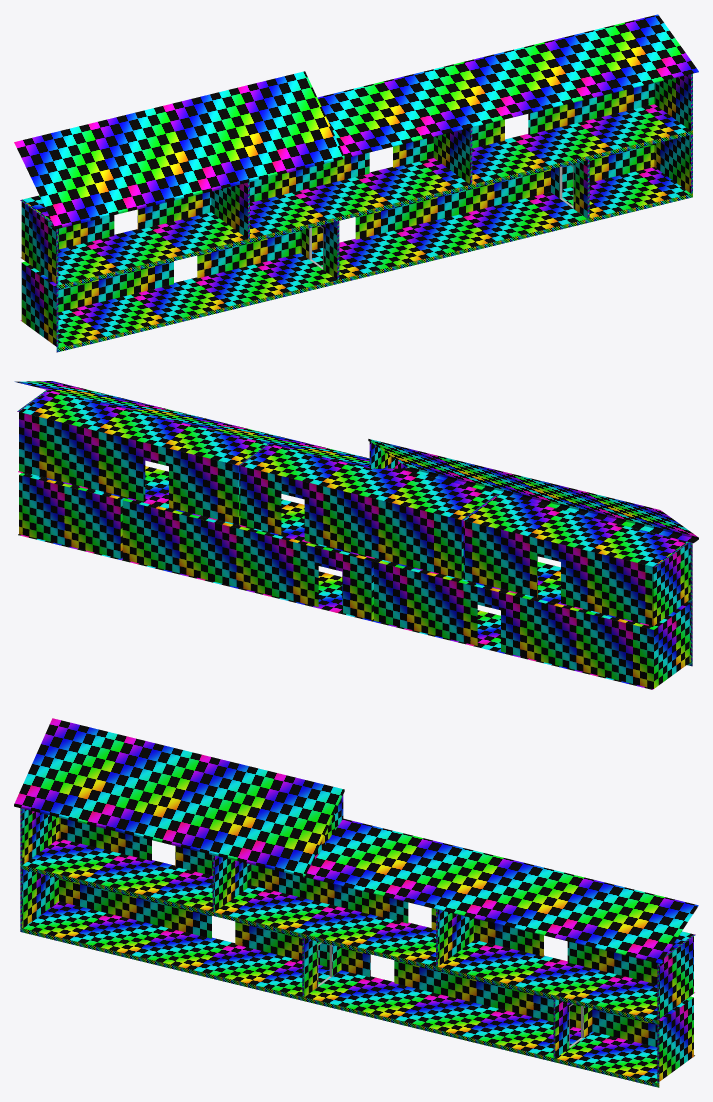
File: HausFront.FBX
The picture shows the model from 3 angles, top to bottom: view 1: azimuth 30°, elevation 25°; view 2: azimuth 150°, elevation 25°; view 3: azimuth 330°, elevation 25°; orthographic projection.
Parts seen in each view (by area): view 1: FrontRoof, FrontLowerDiningFloor, FrontLowerKitchenFloor, FrontLowerDiningWall, FrontUpperWorkFloor, FrontUpperParentsFloor, FrontUpperGrandpaWall, FrontUpperGrandpaFloor, FrontLowerKitchenWall, FrontUpperWorkWall, FrontUpperParentsWall, FrontUpperBeams (+3 smaller); view 2: FrontLowerDiningWall, FrontLowerKitchenWall, FrontUpperGrandpaWall, FrontUpperWorkWall, FrontUpperParentsWall, FrontRoof, FrontUpperWorkCeiling, FrontUpperGrandpaCeiling, FrontUpperParentsCeiling, FrontLowerStoreWall, FrontLowerDiningFloor, FrontLowerKitchenFloor (+7 smaller); view 3: FrontRoof, FrontLowerDiningFloor, FrontLowerKitchenFloor, FrontUpperWorkFloor, FrontUpperParentsFloor, FrontLowerDiningWall, FrontUpperParentsWall, FrontUpperGrandpaFloor, FrontLowerKitchenWall, FrontUpperWorkWall, FrontLowerStoreWall, FrontUpperGrandpaWall (+3 smaller).
Boxes of the visible parts, <box> form: FrontRoof: <box>14,14,698,229</box>; FrontLowerDiningFloor: <box>20,253,336,347</box>; FrontLowerKitchenFloor: <box>312,192,586,279</box>; FrontLowerDiningWall: <box>21,221,337,346</box>; FrontUpperWorkFloor: <box>250,158,470,238</box>; FrontUpperParentsFloor: <box>472,104,690,184</box>; FrontUpperGrandpaWall: <box>21,182,247,283</box>; FrontUpperGrandpaFloor: <box>21,212,247,285</box>; FrontLowerKitchenWall: <box>312,160,587,250</box>; FrontUpperWorkWall: <box>250,128,470,202</box>; FrontUpperParentsWall: <box>472,74,690,148</box>; FrontUpperBeams: <box>20,73,692,289</box>; FrontLowerDiningWall: <box>374,561,690,688</box>; FrontLowerKitchenWall: <box>122,500,375,619</box>; FrontUpperGrandpaWall: <box>463,520,690,625</box>; FrontUpperWorkWall: <box>240,466,463,578</box>; FrontUpperParentsWall: <box>19,412,240,524</box>; FrontRoof: <box>14,381,698,543</box>; FrontUpperWorkCeiling: <box>240,444,496,519</box>; FrontUpperGrandpaCeiling: <box>464,494,687,566</box>; FrontUpperParentsCeiling: <box>19,390,267,465</box>; FrontLowerStoreWall: <box>19,475,124,558</box>; FrontLowerDiningFloor: <box>372,610,653,689</box>; FrontLowerKitchenFloor: <box>121,559,373,621</box>; FrontRoof: <box>14,718,698,963</box>; FrontLowerDiningFloor: <box>22,901,329,996</box>; FrontLowerKitchenFloor: <box>304,970,580,1057</box>; FrontUpperWorkFloor: <box>215,885,435,966</box>; FrontUpperParentsFloor: <box>438,940,694,1020</box>; FrontLowerDiningWall: <box>22,869,329,967</box>; FrontUpperParentsWall: <box>438,909,693,1018</box>; FrontUpperGrandpaFloor: <box>22,838,212,911</box>; FrontLowerKitchenWall: <box>304,938,580,1028</box>; FrontUpperWorkWall: <box>214,855,435,930</box>; FrontLowerStoreWall: <box>555,998,693,1081</box>; FrontUpperGrandpaWall: <box>22,808,212,875</box>.
Size of the model in its own units: 1355 by 370 by 147.
